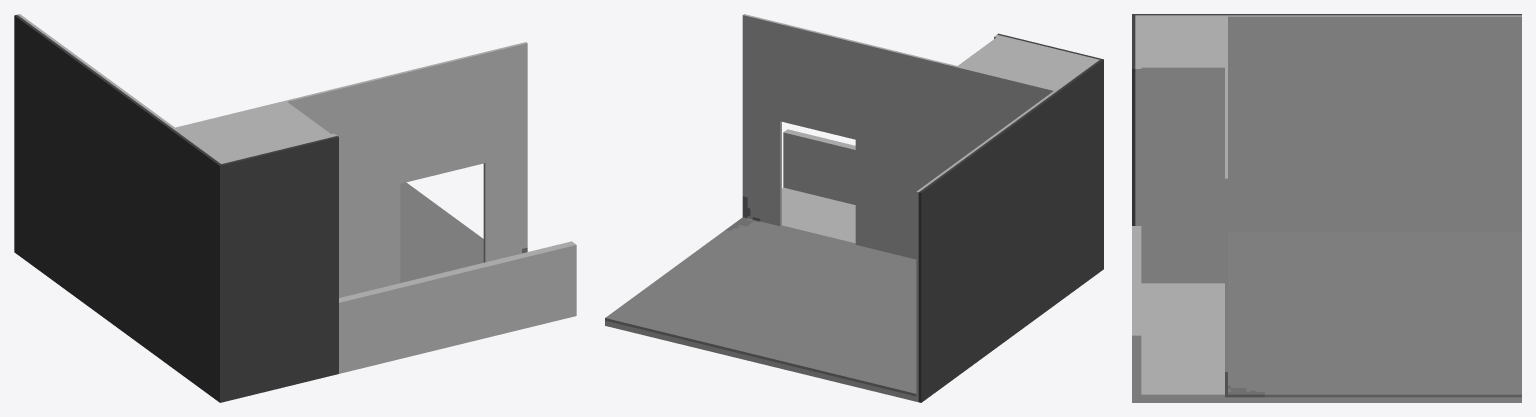
The model's file is 4x2 second (2)-6.obj.
The picture shows the model from 3 angles, left to right: view 1: azimuth 30°, elevation 25°; view 2: azimuth 150°, elevation 25°; view 3: azimuth 270°, elevation 25°; orthographic projection. The views are drawn at different scales.
Visible parts, largest first — view 1: 4x2 second (2)-6; view 2: 4x2 second (2)-6; view 3: 4x2 second (2)-6.
Boxes of the visible parts, x1,y1,x2,y2 form: 4x2 second (2)-6: (14,14,576,402); 4x2 second (2)-6: (605,14,1103,402); 4x2 second (2)-6: (1132,14,1521,402).
Size of the model in its own units: 126 by 80 by 126.
Materials: 1 (1 with a texture image).
